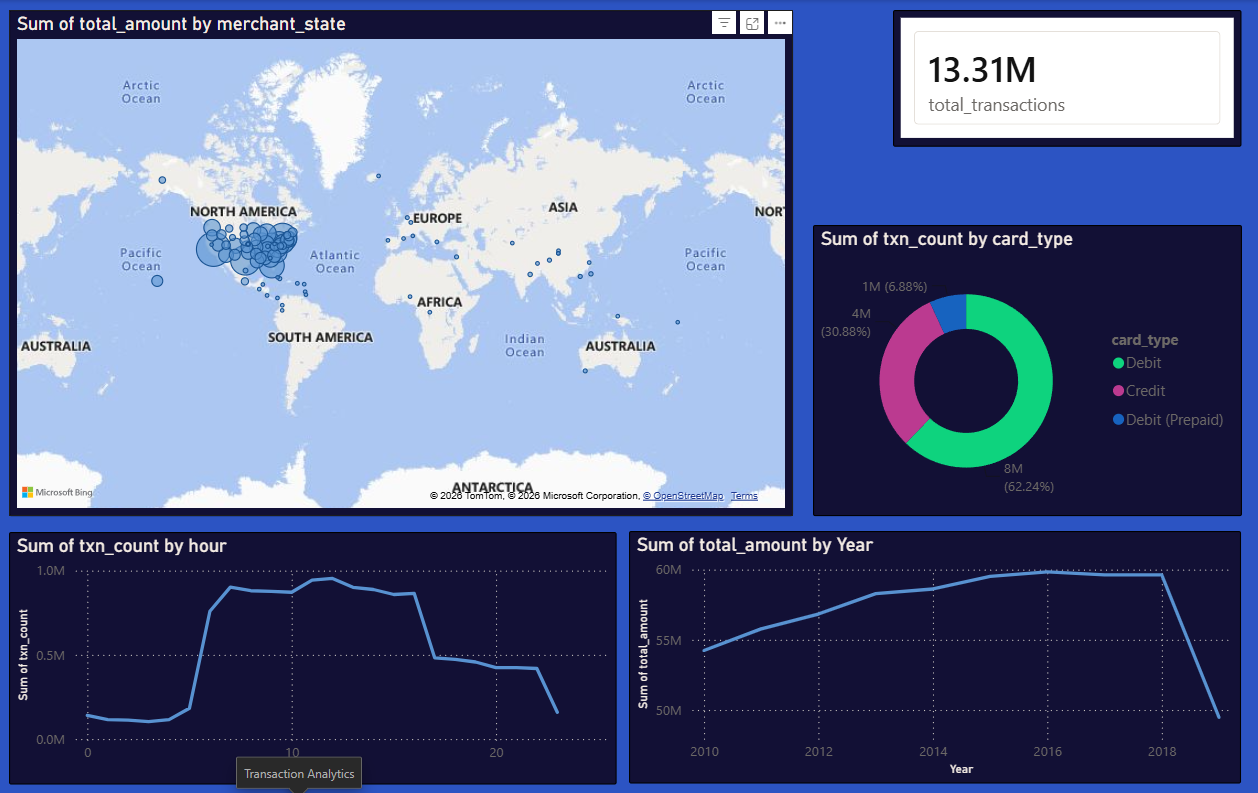

Layout of this report page (visuals, bound fields, positions):
{"tool":"powerbi","page":{"name":"Transaction Analytics","canvas":[1280,720],"ordinal":1},"visuals":[{"type":"lineChart","fields":{"Category":["agg_monthly_trends_202607042244.month.Variation.Date Hierarchy.Year","agg_monthly_trends_202607042244.month.Variation.Date Hierarchy.Quarter","agg_monthly_trends_202607042244.month.Variation.Date Hierarchy.Month","agg_monthly_trends_202607042244.month.Variation.Date Hierarchy.Day"],"Y":["Sum(agg_monthly_trends_202607042244.total_amount)"]},"box":[572.5,481.2,555,228.8],"z":0},{"type":"lineChart","fields":{"Category":["hourly_trends_202607021536.hour"],"Y":["Sum(hourly_trends_202607021536.txn_count)"]},"box":[10,482.5,551.2,228.8],"z":1000},{"type":"donutChart","fields":{"Category":["agg_card_type_202607042247.card_type"],"Y":["Sum(agg_card_type_202607042247.txn_count)"]},"box":[738.8,203.8,388.8,263.8],"z":2000},{"type":"map","fields":{"Category":["agg_state_202607042248.merchant_state"],"Size":["Sum(agg_state_202607042248.total_amount)"]},"box":[10,8.8,711.2,458.8],"z":3000},{"type":"cardVisual","fields":{"Data":["Avg(kpi_summary_202607042252.total_transactions)"]},"box":[811.2,8.8,316.2,123.8],"z":4000}]}

Visuals, with their boxes on the page's 1280x720 design canvas (x1, y1, x2, y2). These are canvas units, not pixel positions in the 1258x793 screenshot, which may show the page scaled, cropped or inside an application window:
lineChart - agg_monthly_trends_202607042244.month.Variation.Date Hierarchy.Year x agg_monthly_trends_202607042244.month.Variation.Date Hierarchy.Quarter: (left=572, top=481, right=1128, bottom=710)
lineChart - hourly_trends_202607021536.hour x Sum(hourly_trends_202607021536.txn_count): (left=10, top=482, right=561, bottom=711)
donutChart - agg_card_type_202607042247.card_type x Sum(agg_card_type_202607042247.txn_count): (left=739, top=204, right=1128, bottom=468)
map - agg_state_202607042248.merchant_state x Sum(agg_state_202607042248.total_amount): (left=10, top=9, right=721, bottom=468)
cardVisual - Avg(kpi_summary_202607042252.total_transactions): (left=811, top=9, right=1127, bottom=133)
